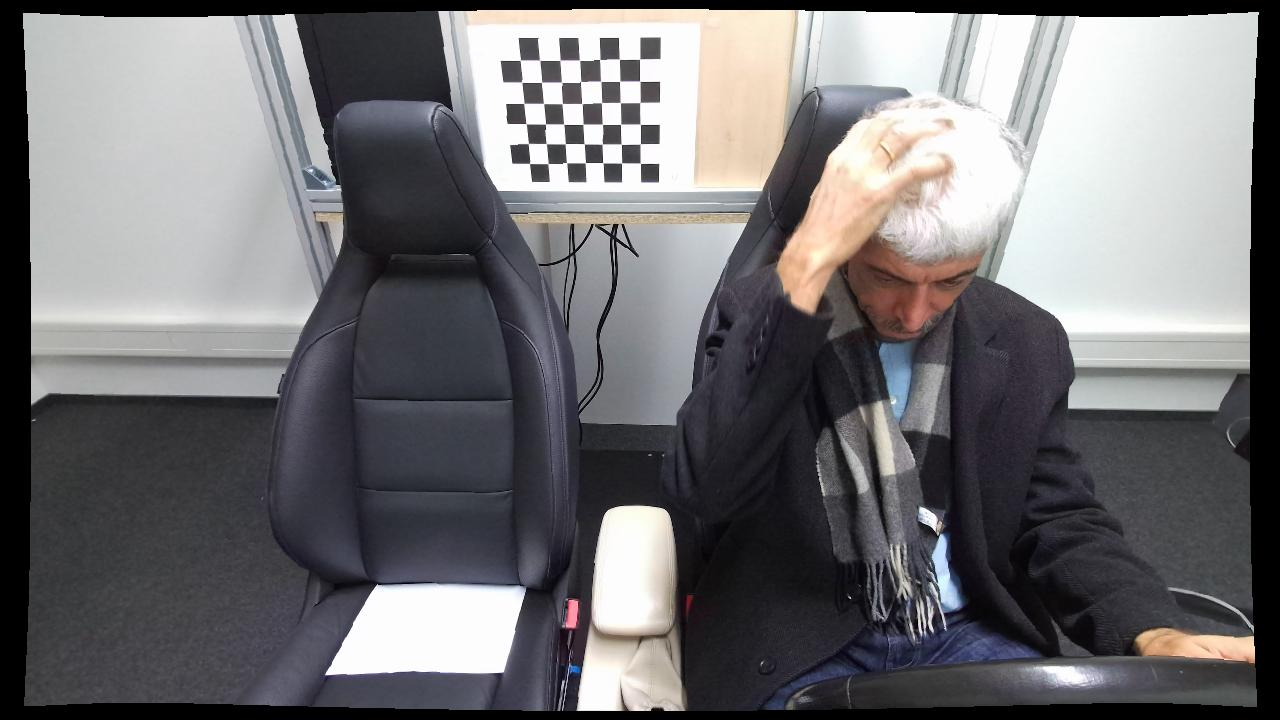Distracted: (657, 94, 1094, 708)
